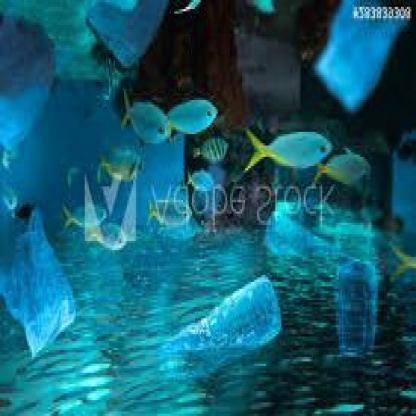pbag: (2, 193, 82, 359), (2, 4, 64, 171), (77, 3, 171, 78)
pbottle: (150, 268, 286, 368), (330, 255, 386, 368), (256, 203, 342, 268)
